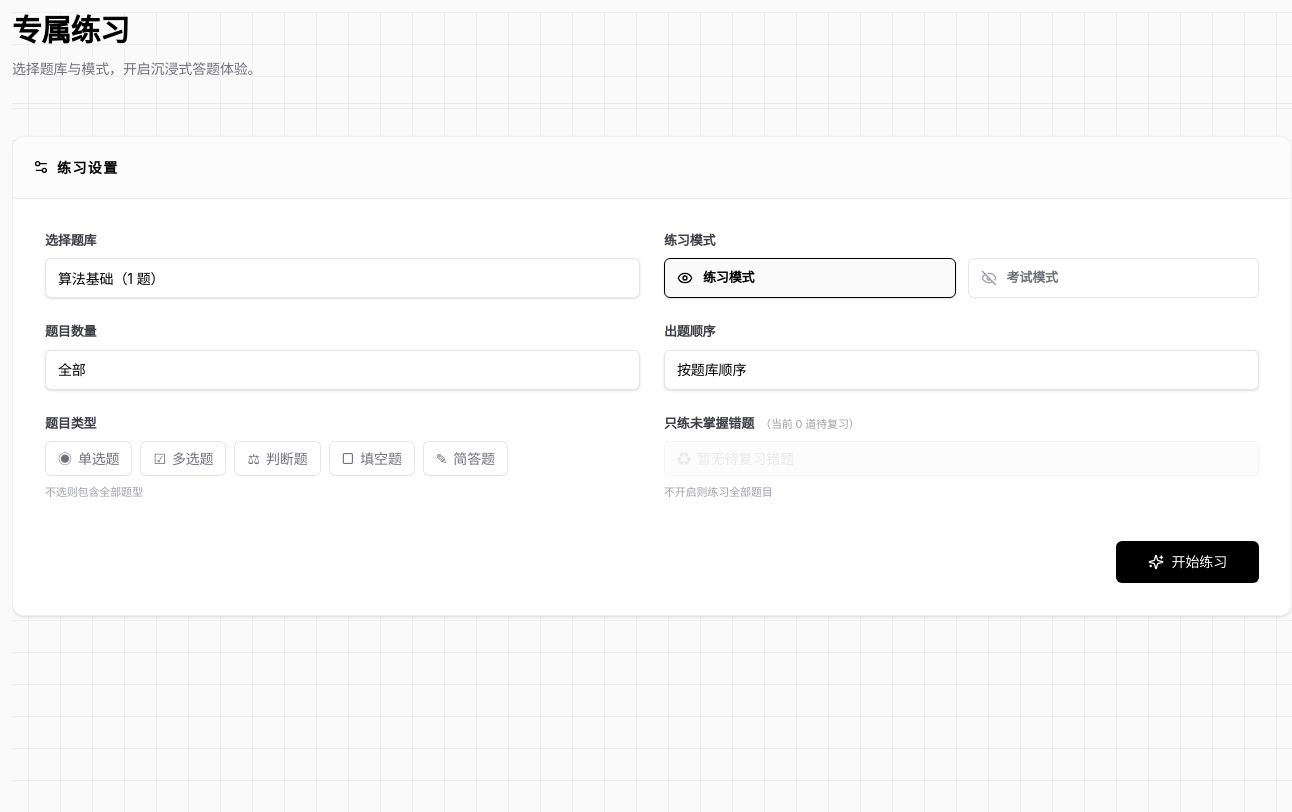
Test: practice flow › renders true-false questions as choice controls
Click the button "开始练习". click: (1187, 562)
box: [1116,540,1259,582]
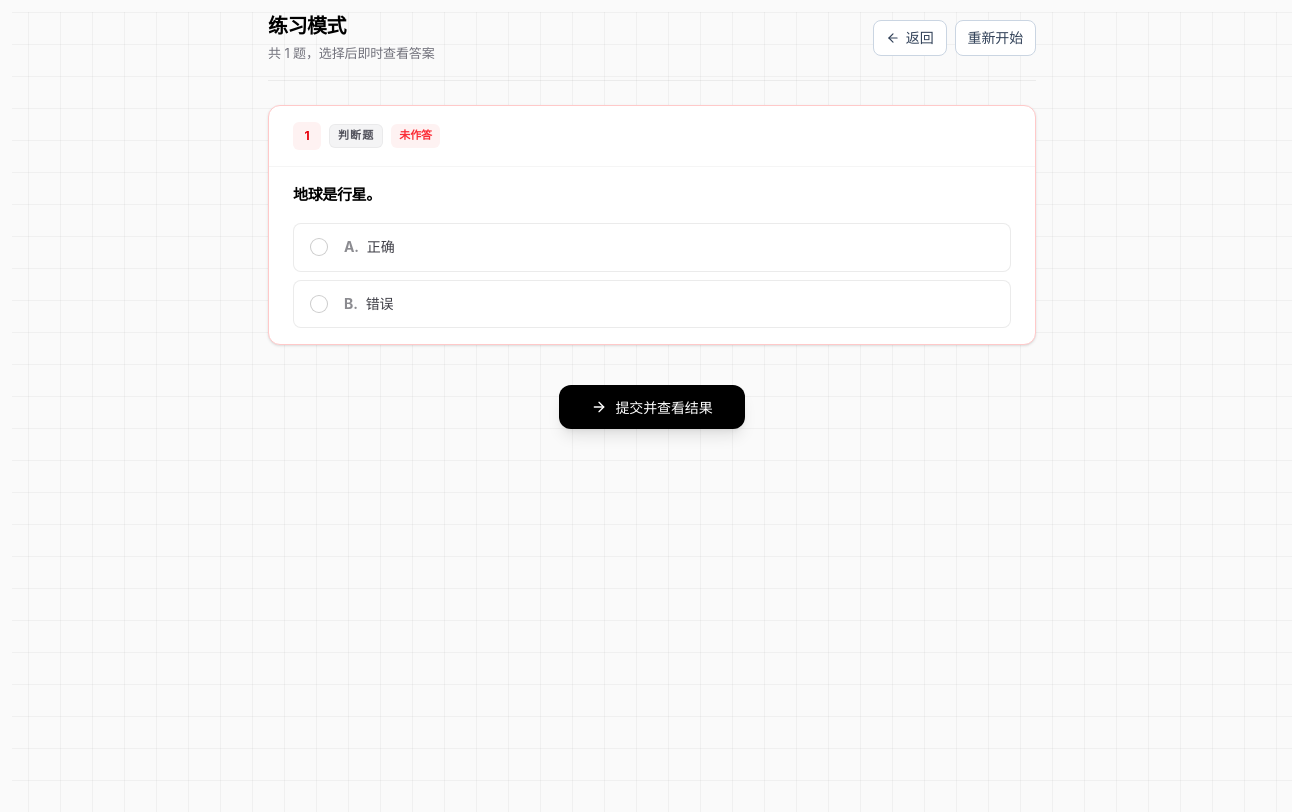
Now the radio button named "A. 正确" is shown, box [293,223,1011,272]
Now the radio button named "B. 错误" is shown, box [293,280,1011,328]
